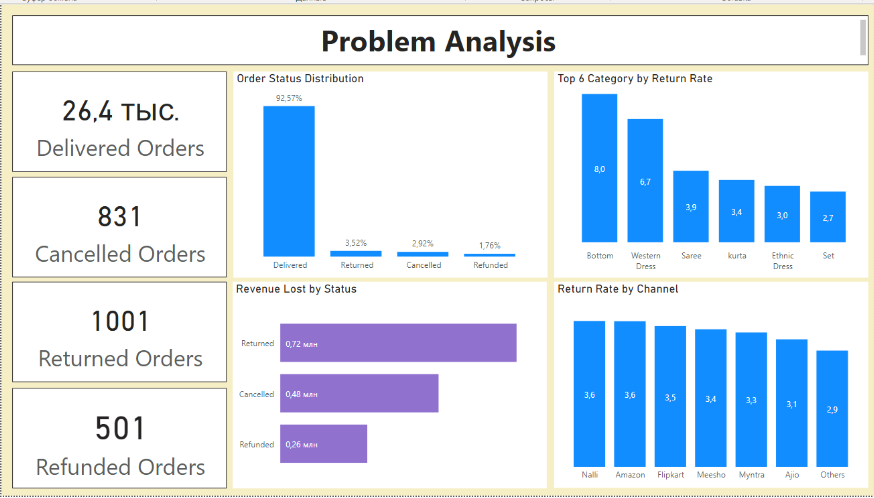

What the dashboard file says about the page in this screenshot:
{"tool":"powerbi","page":{"name":"Страница 3","canvas":[1280,720],"ordinal":2},"visuals":[{"type":"textbox","box":[16,16,1255.7,72.5],"z":0},{"type":"card","fields":{"Values":["SwiftCart_Store.Delivered Orders"]},"box":[16,98.3,314.5,147.4],"z":1000},{"type":"card","fields":{"Values":["SwiftCart_Store.Cancelled Orders"]},"box":[16,253.1,314.5,147.4],"z":2000},{"type":"card","fields":{"Values":["SwiftCart_Store.Returned Orders"]},"box":[16,406.7,314.5,147.4],"z":3000},{"type":"card","fields":{"Values":["SwiftCart_Store.Refunded Orders"]},"box":[16,562.7,314.5,147.4],"z":4000},{"type":"columnChart","title":"Order Status Distribution","fields":{"Category":["SwiftCart_Store.Status"],"Y":["SwiftCart_Store.Unique_orders"]},"box":[340.3,98.3,460.8,302.3],"z":5000},{"type":"clusteredBarChart","title":"Revenue Lost by Status","fields":{"Category":["SwiftCart_Store.Status"],"Y":["Sum(SwiftCart_Store.Amount)"]},"box":[339.1,406.7,460.8,303.5],"z":6000},{"type":"columnChart","title":"Top 6 Category by Return Rate","fields":{"Category":["SwiftCart_Store.Category"],"Y":["SwiftCart_Store.Return Rate"]},"box":[810.9,98.3,460.8,302.3],"z":7000},{"type":"columnChart","title":"Return Rate by Channel","fields":{"Category":["SwiftCart_Store.Channel "],"Y":["SwiftCart_Store.Return Rate"]},"box":[810.9,406.7,460.8,302.3],"z":8000}]}

Visuals, with their boxes in screenshot pixels (x1, y1, x2, y2), scaled from the page's 1280x720 canvas onto the 874x498 screenshot:
textbox: [x1=11, y1=11, x2=868, y2=61]
card - SwiftCart_Store.Delivered Orders: [x1=11, y1=68, x2=226, y2=170]
card - SwiftCart_Store.Cancelled Orders: [x1=11, y1=175, x2=226, y2=277]
card - SwiftCart_Store.Returned Orders: [x1=11, y1=281, x2=226, y2=383]
card - SwiftCart_Store.Refunded Orders: [x1=11, y1=389, x2=226, y2=491]
"Order Status Distribution" columnChart: [x1=232, y1=68, x2=547, y2=277]
"Revenue Lost by Status" clusteredBarChart: [x1=232, y1=281, x2=546, y2=491]
"Top 6 Category by Return Rate" columnChart: [x1=554, y1=68, x2=868, y2=277]
"Return Rate by Channel" columnChart: [x1=554, y1=281, x2=868, y2=490]
